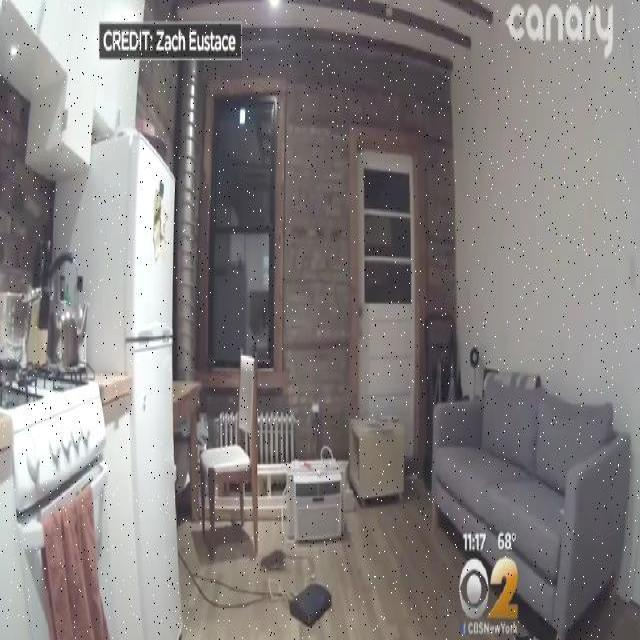rat: (258, 541, 307, 573)
